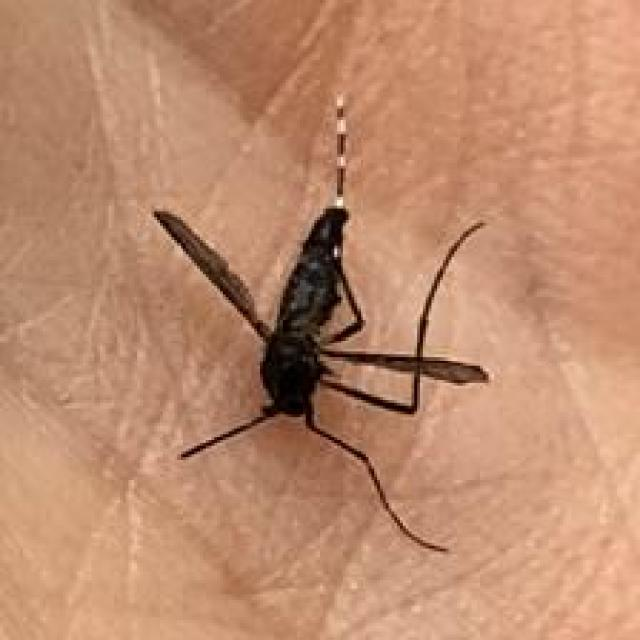Aedes albopictus: (152, 91, 492, 554)
